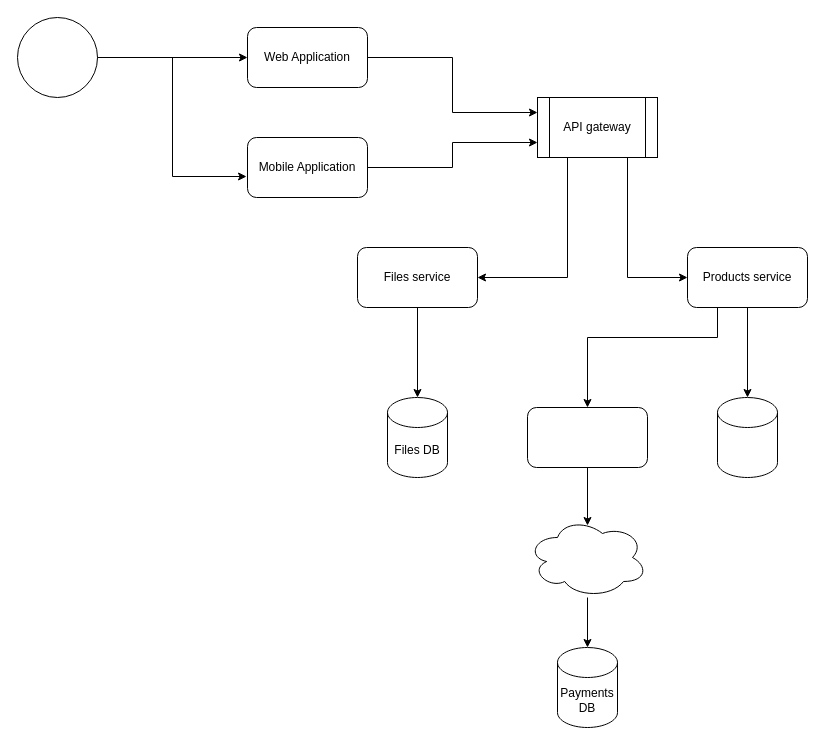
Some shapes in this 825 by 745 pixel diagram are drawn without their labels. Each missing label, with the centre of its shape:
"Payment gateway service" goes at point 587,437.
"Paynow Api" goes at point 587,557.
"Products DB" goes at point 747,437.
"start" goes at point 57,57.
